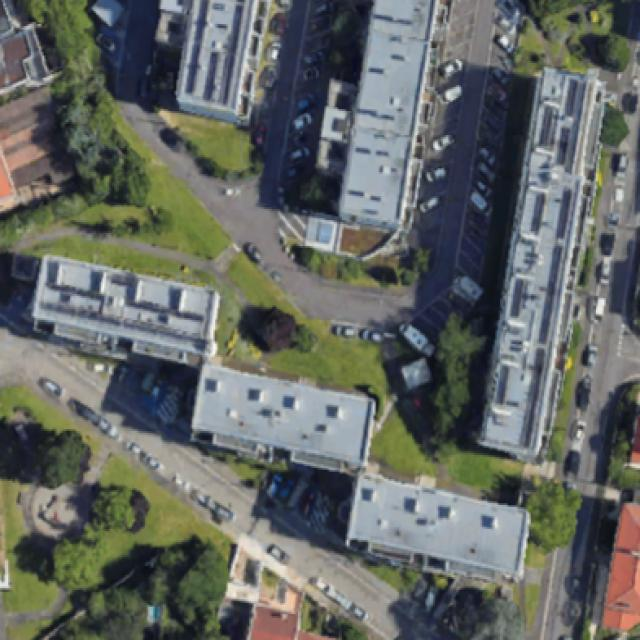immeuble: (476, 66, 598, 454), (28, 254, 223, 370), (338, 0, 435, 229), (342, 473, 533, 589), (188, 364, 378, 478), (173, 0, 260, 111)
